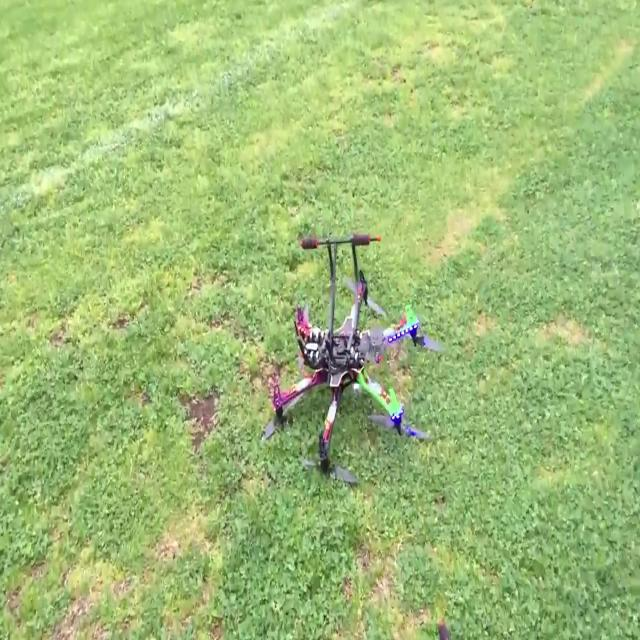drone: (246, 202, 444, 472)
